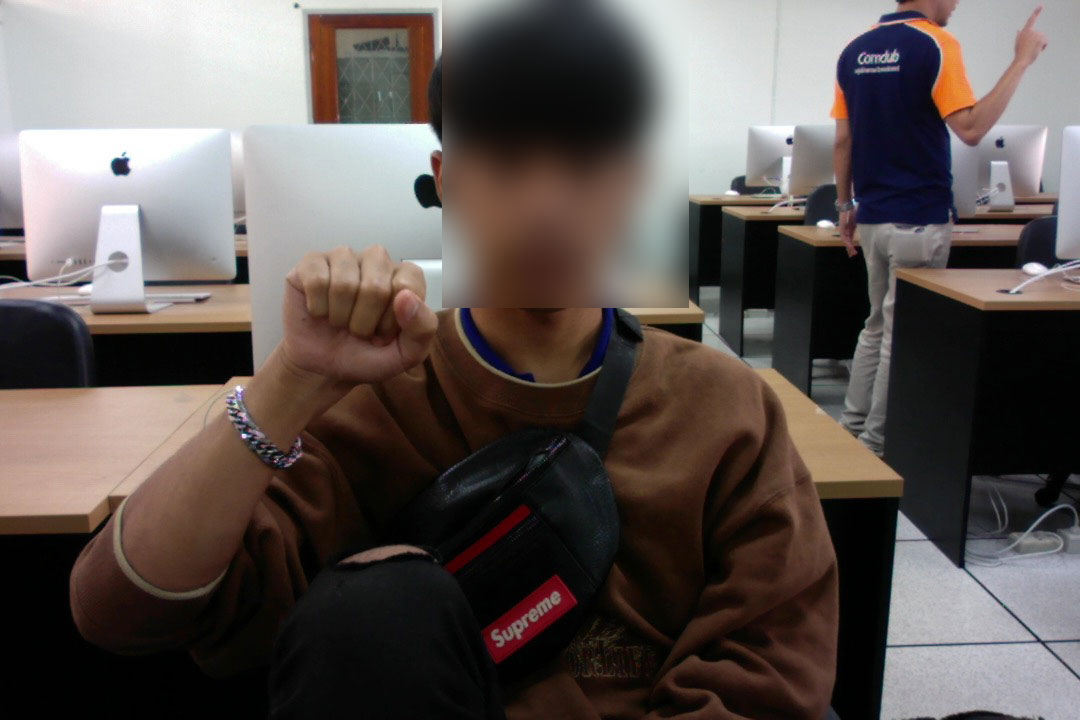sor: (273, 240, 447, 414)
